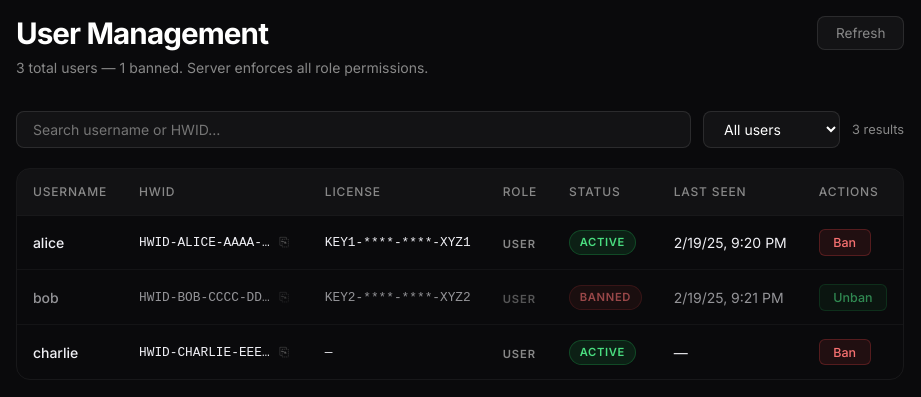
Test: AdminUsers — filter dropdown › shows only active users when Active only selected
The width and height of the screenshot is (921, 397).
Expected: the text "alice" is shown, [17,215,123,270]
Select "Active only" in the dropdown: (772, 130) [703,112,840,148]
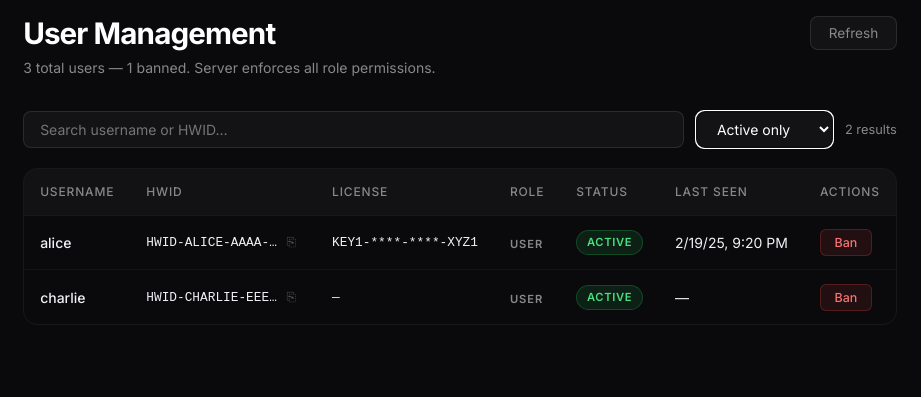
Expected: the text "alice" is shown, [24,215,130,270]
Expected: the text "bob" is gone
